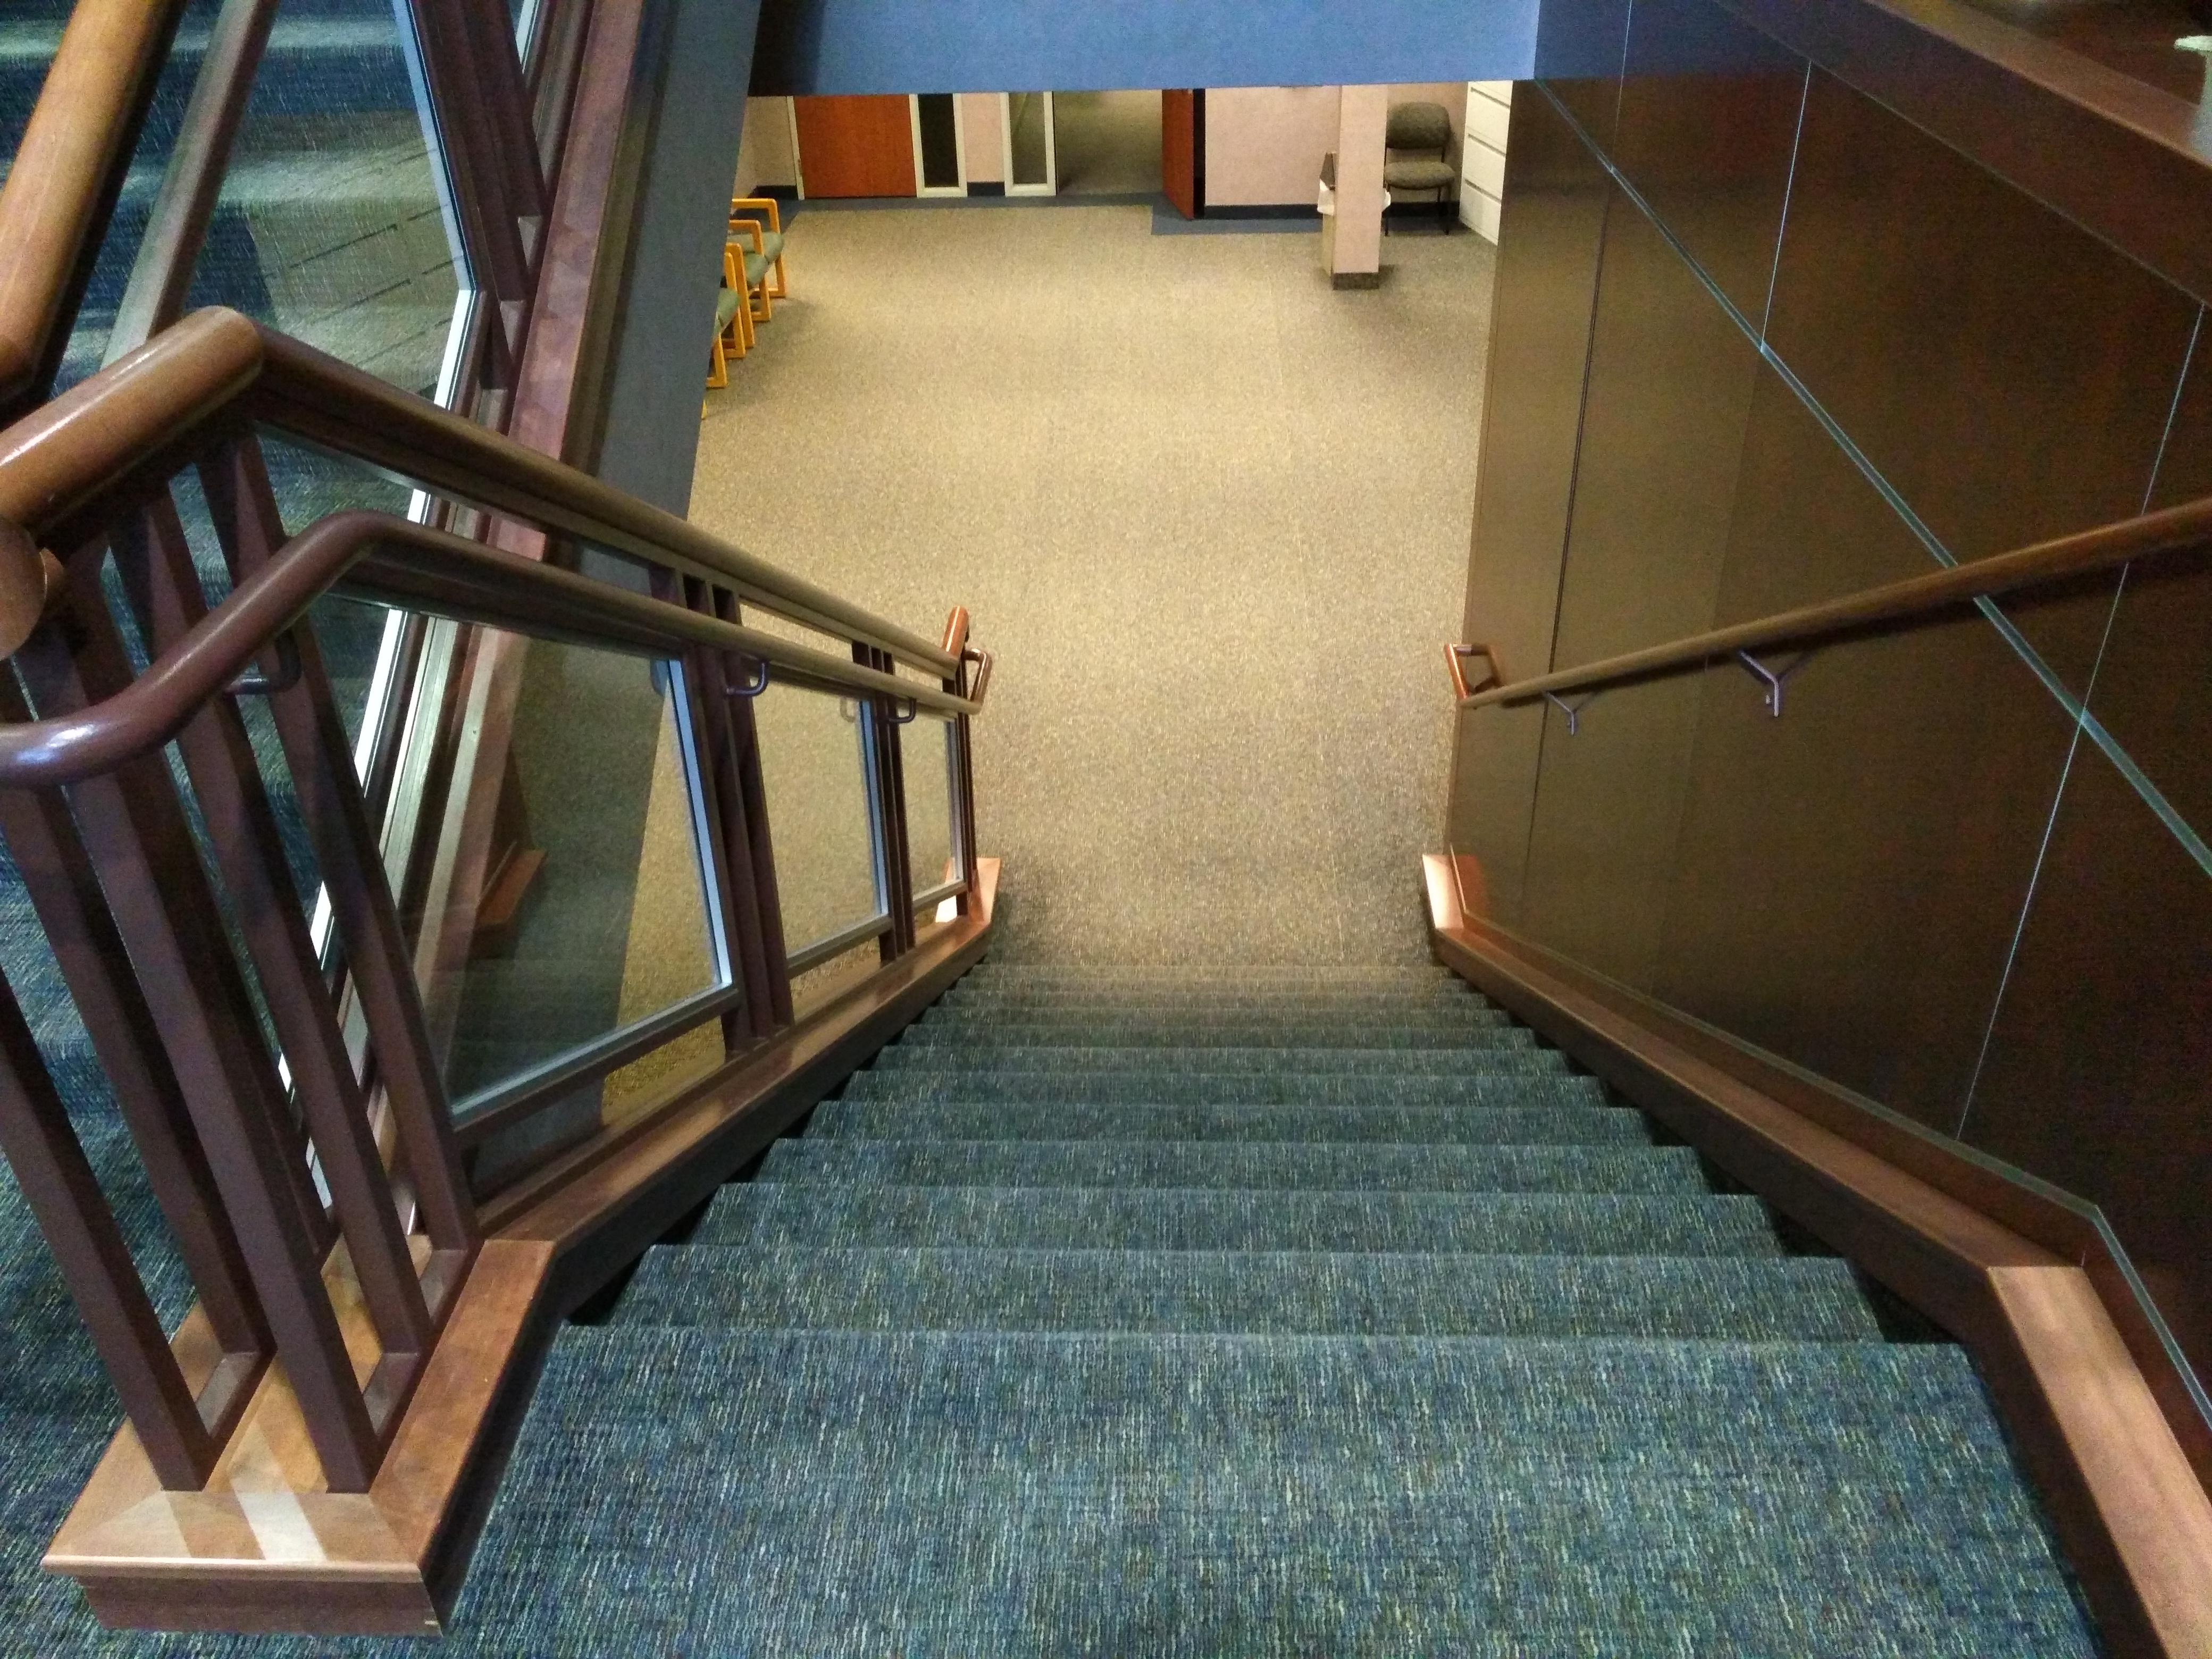stairs_down: (563, 779, 1980, 1462)
